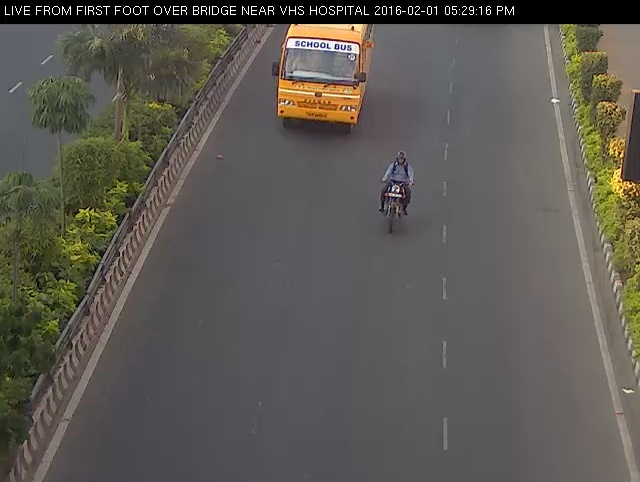Bus: (268, 14, 379, 141)
Person: (376, 142, 418, 242)
